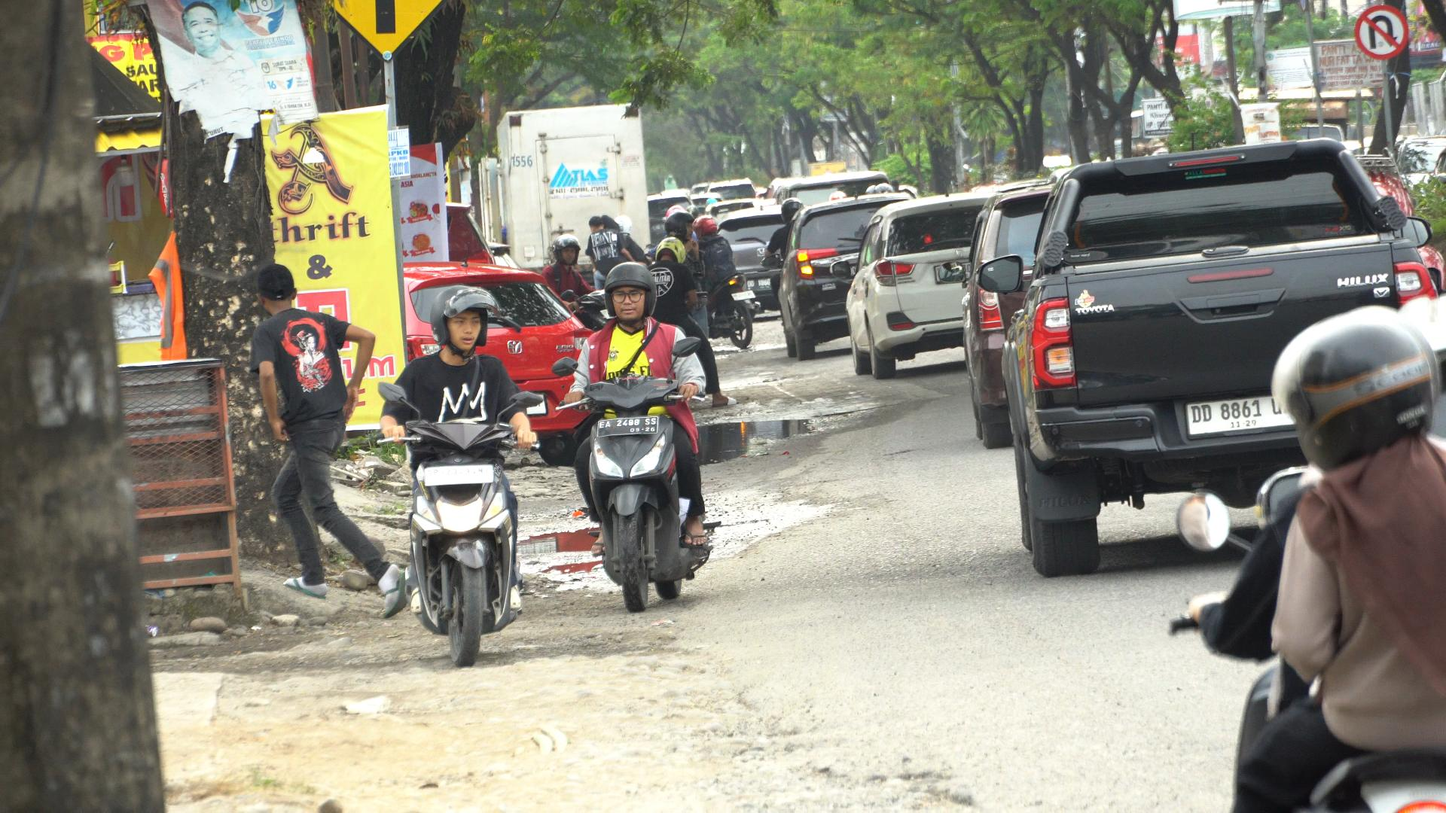number-plate: (420, 462, 495, 488), (597, 414, 659, 439)
